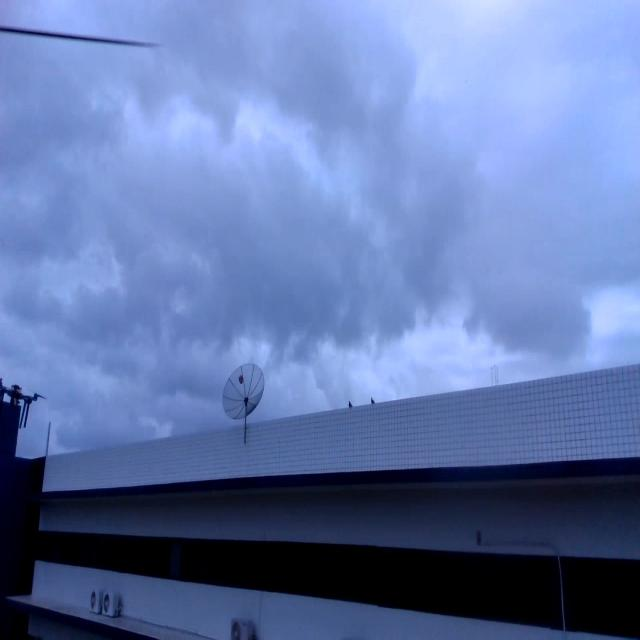-uav-: (0, 373, 53, 439)
